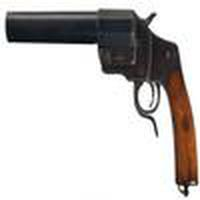gun: (6, 10, 197, 193)
